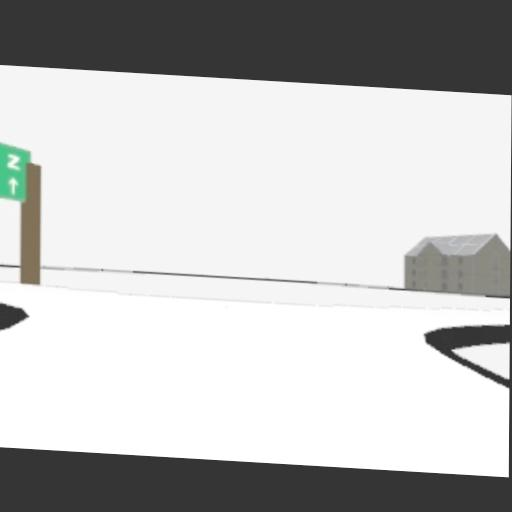Straight: (9, 178, 18, 196)
Z: (7, 154, 20, 170)
